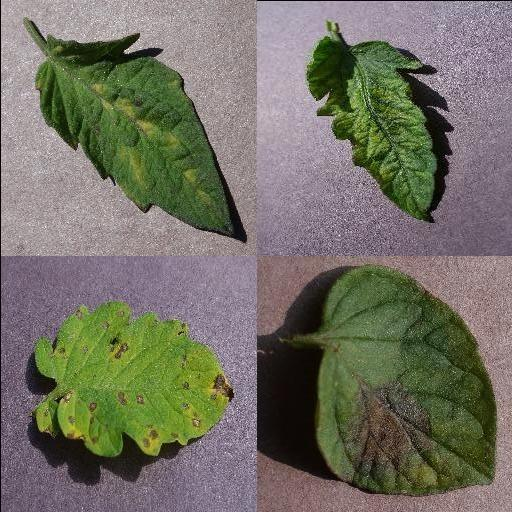Late Blight: (312, 263, 498, 497)
Leaf Mold: (33, 34, 235, 238)
Mosaic Virus: (306, 36, 436, 222)
Septoria: (32, 301, 234, 457)
